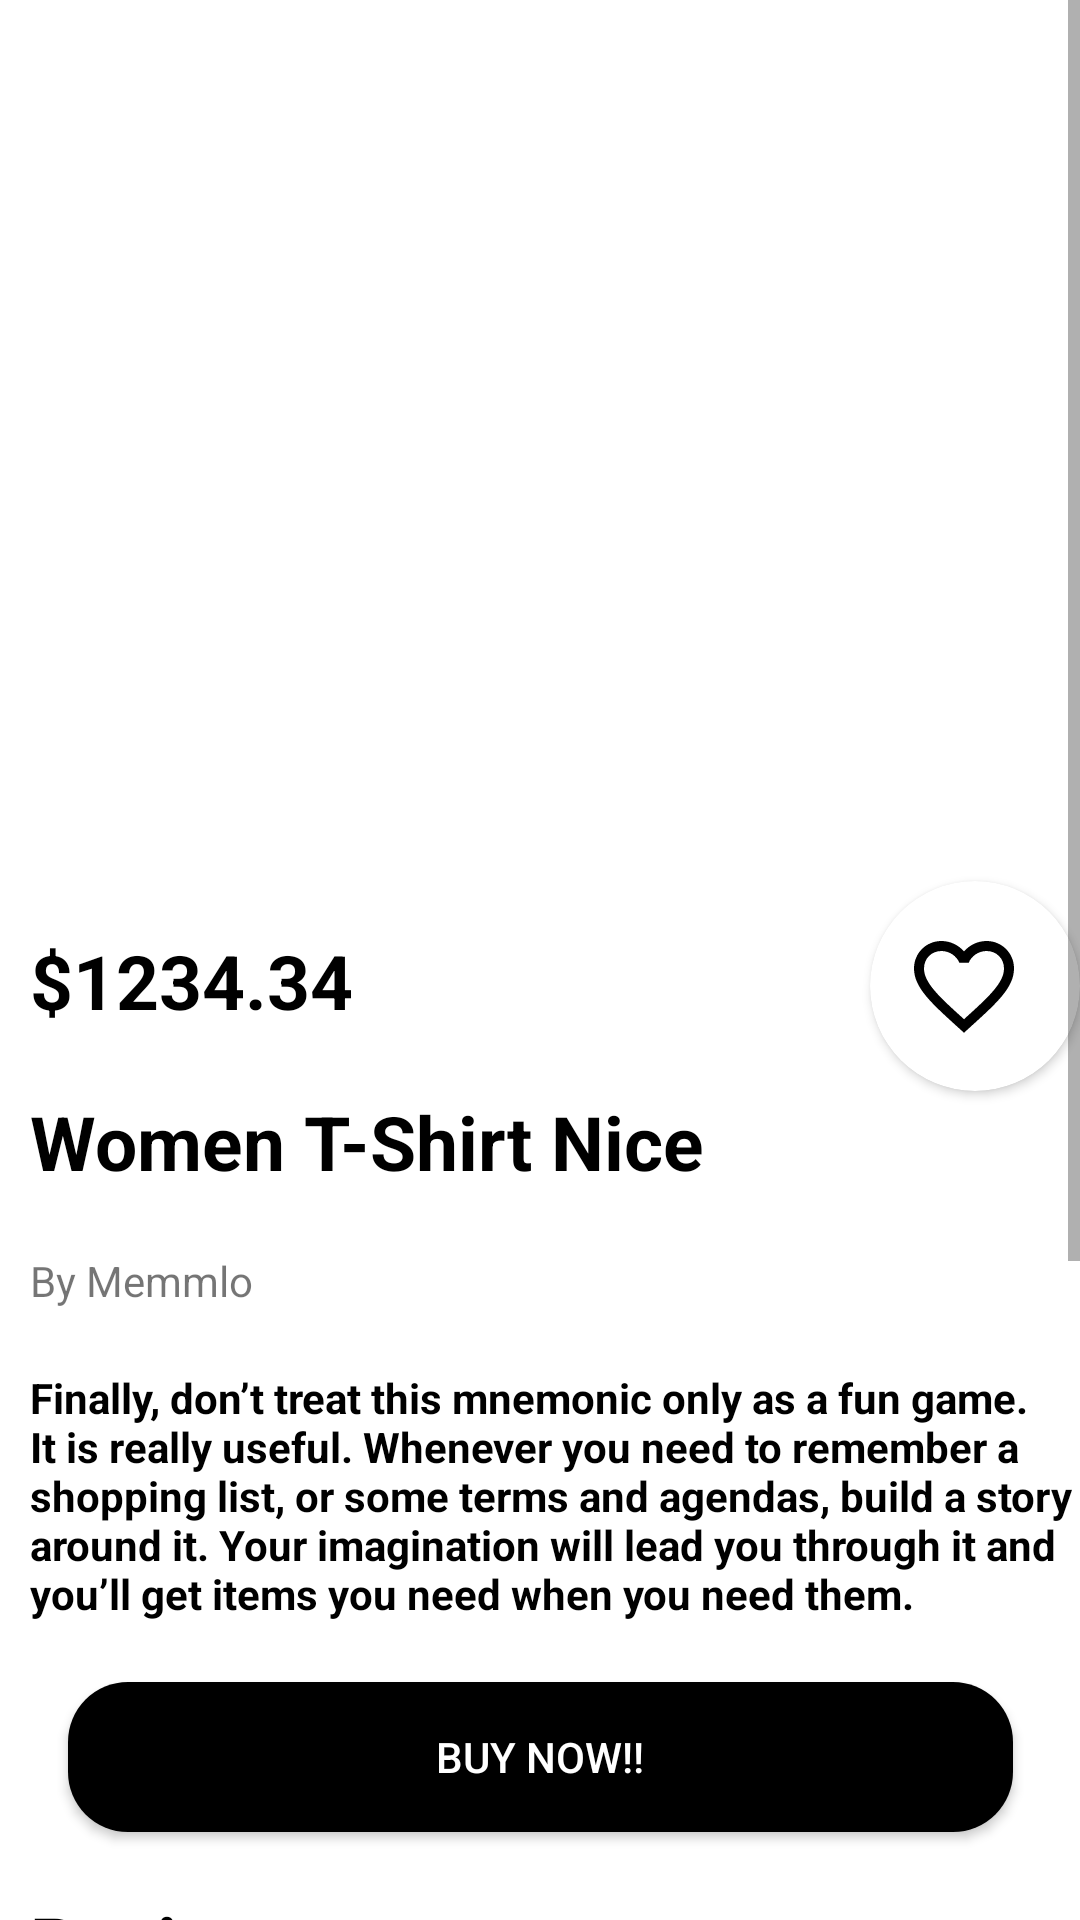

Locate icon controls on the screen. Image size 1080 x 1920, boxes as box=[x1, y1, x2, y2].
hearta: box=[914, 941, 1014, 1033]
